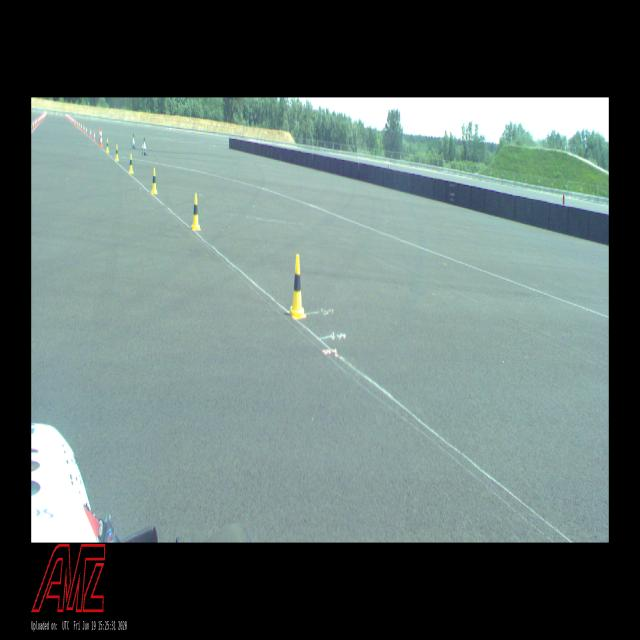large_orange_cone: (100, 128, 102, 146), (98, 127, 100, 145)
orange_cone: (90, 128, 92, 138), (32, 120, 34, 129), (86, 127, 88, 135), (83, 124, 85, 132), (94, 131, 95, 142), (81, 122, 82, 130), (32, 121, 32, 132)
yellow_cone: (288, 254, 306, 318), (192, 193, 200, 230), (152, 168, 158, 194), (129, 154, 134, 174), (115, 144, 119, 160), (106, 138, 109, 152), (99, 134, 100, 146)
